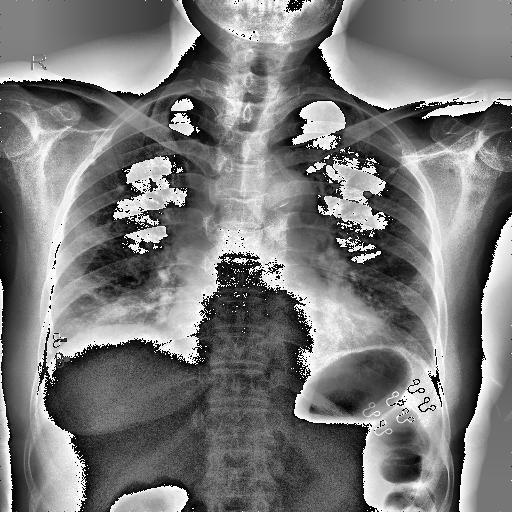0- Aortic enlargement: (240, 167, 316, 232), (258, 168, 317, 226), (250, 167, 314, 217)
13- Pulmonary fibrosis: (116, 184, 124, 191)
3- Cardiomegaly: (164, 282, 380, 354), (168, 304, 390, 368), (164, 306, 394, 348)
8- Nodule-Mass: (363, 137, 410, 199), (85, 134, 126, 196)
9- Other lesion: (364, 142, 402, 198), (76, 132, 98, 182)
